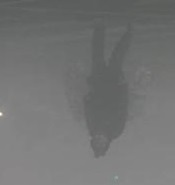person: (87, 19, 132, 157)
